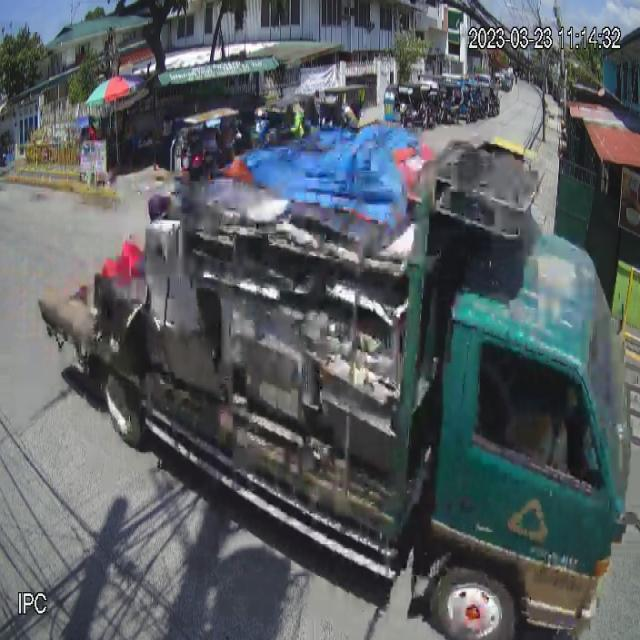Truck: (37, 122, 630, 637)
